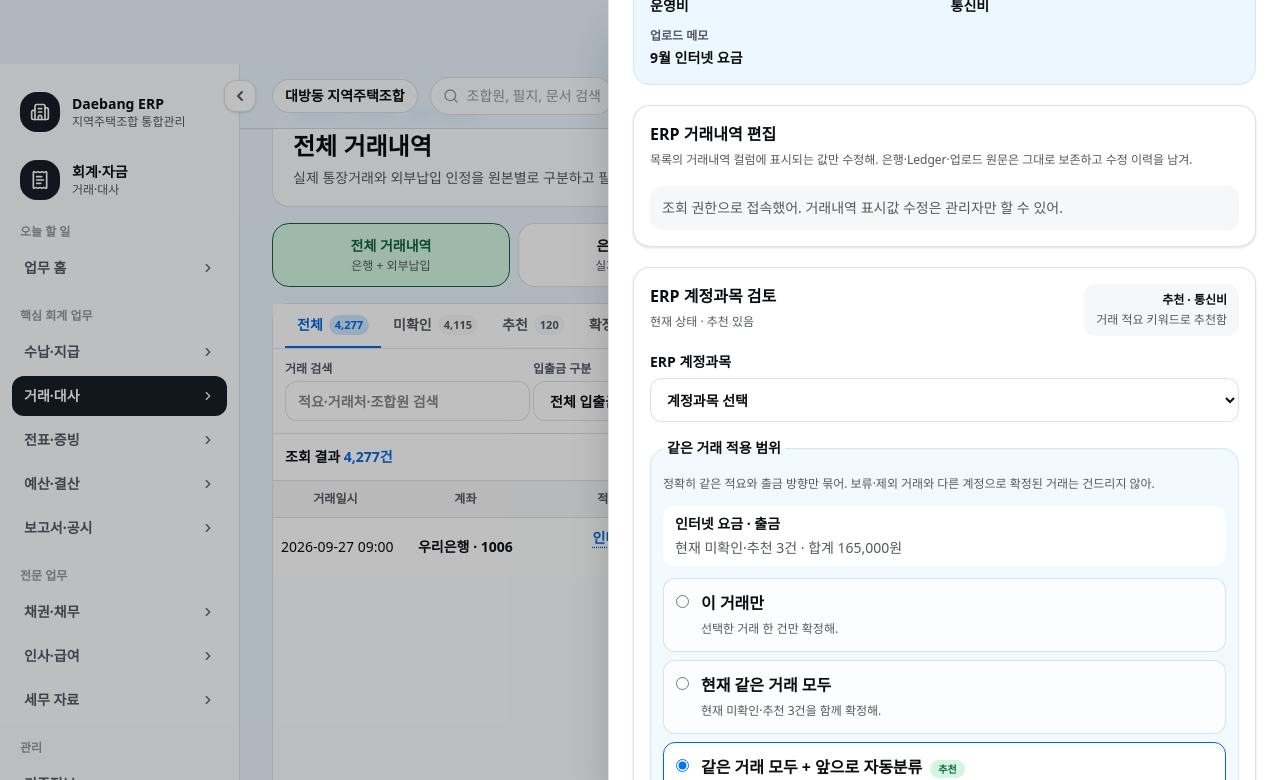
Test: BankTransactionListPage › uses uploaded fields as references and saves the ERP subject with an admin note
(page scrolled)
Expected: the text "현재 미확인·추천 3건 · 합계 165,000원" is shown, top-left (675, 538), bottom-right (902, 557)
Expected: the radio button labelled "같은 거래 모두 + 앞으로 자동분류" is checked, top-left (676, 759), bottom-right (689, 772)
Select "수입 · 조합원 분담금 수입" in the dropdown labelled "ERP 계정과목". click: {"x": 944, "y": 400}
box: top-left (650, 378), bottom-right (1239, 422)
(page scrolled)
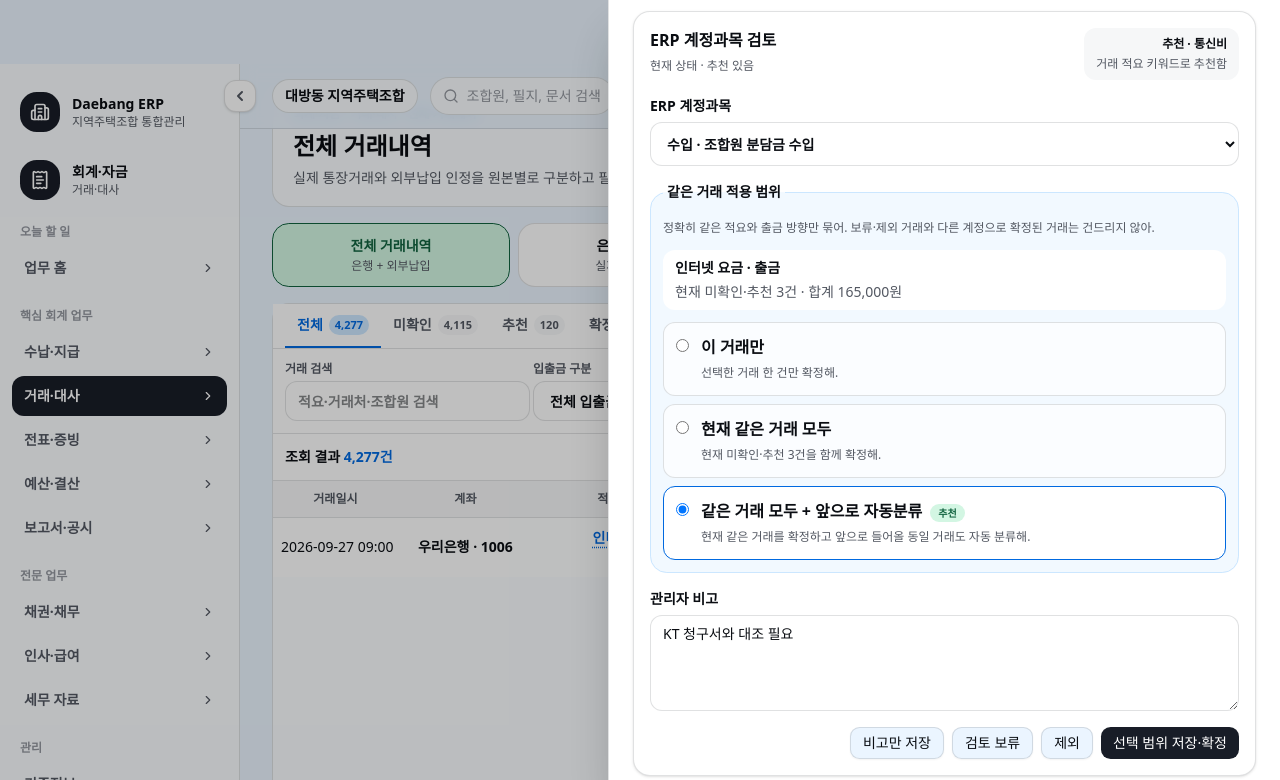
Replace the text in the text box labelled "관리자 비고" with "통신비 청구서 확인 완료". click: {"x": 944, "y": 663}
box: top-left (650, 615), bottom-right (1239, 711)
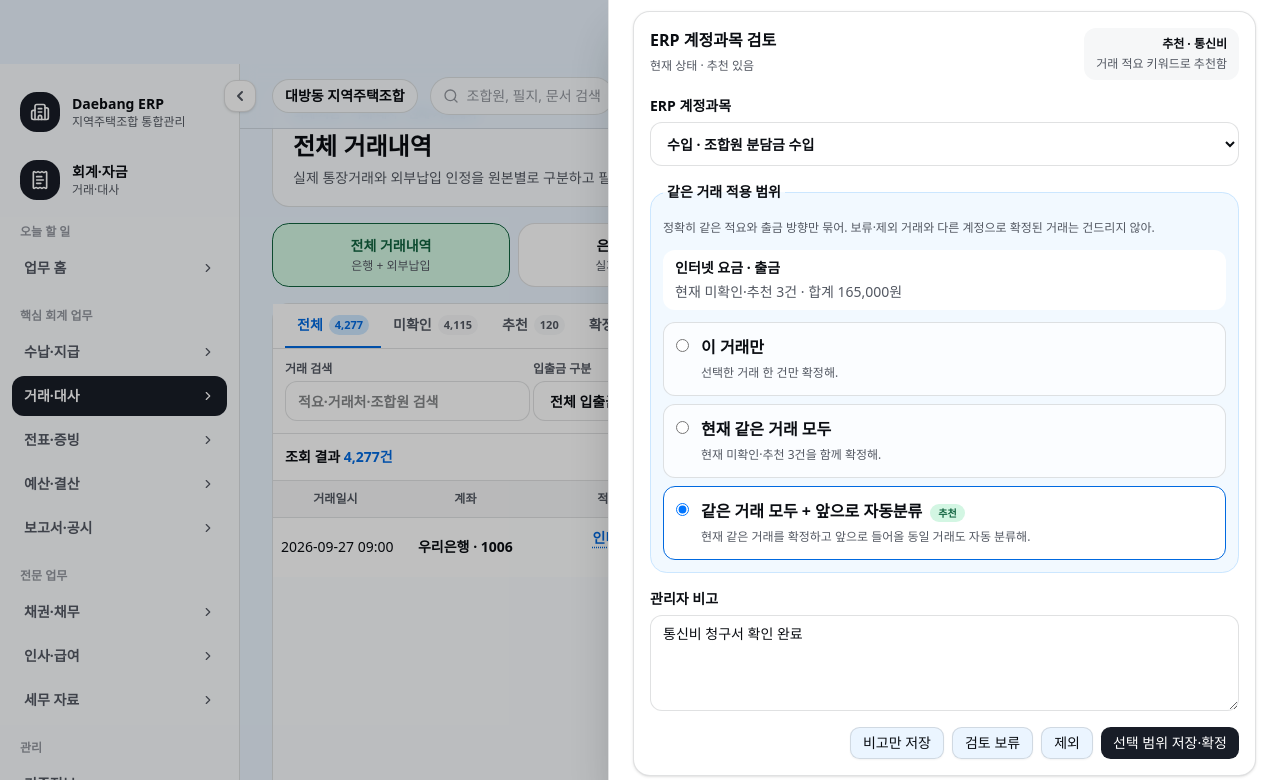
Click the button "선택 범위 저장·확정". click: {"x": 1170, "y": 743}
box: top-left (1101, 727), bottom-right (1239, 759)
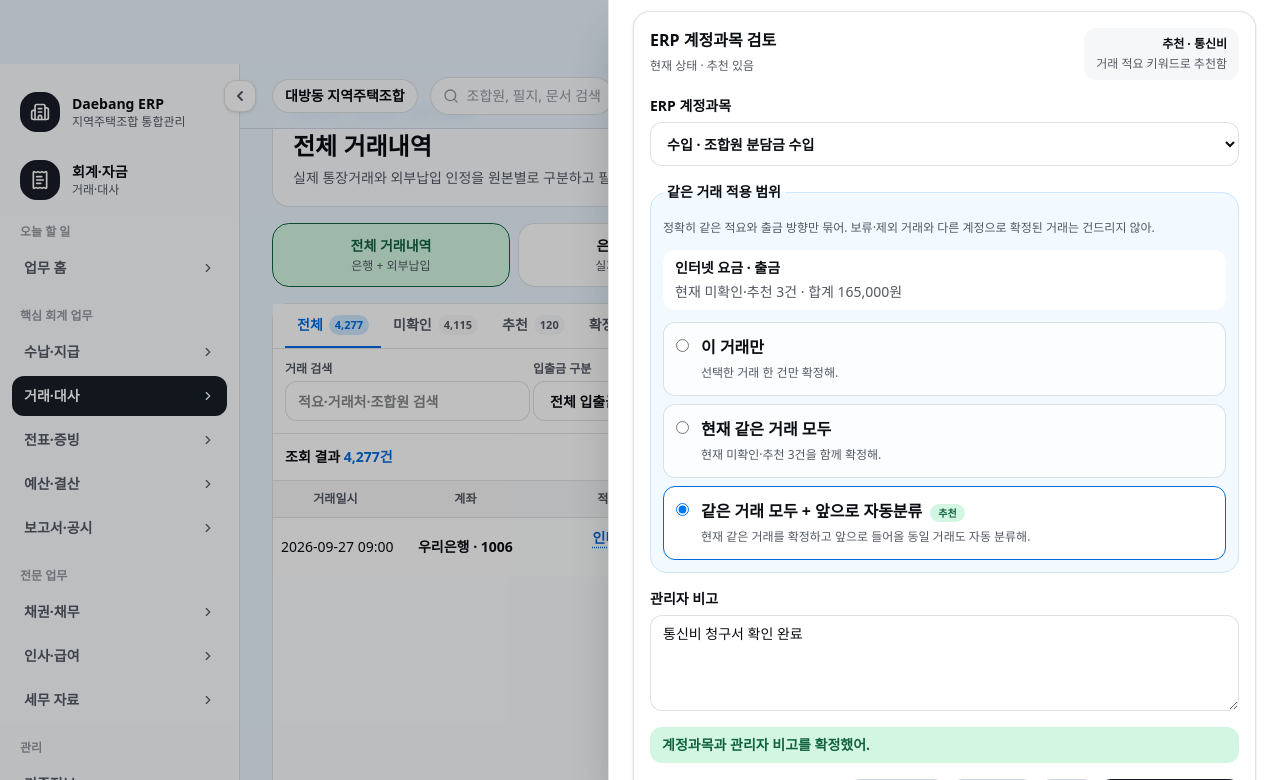
Result: the text "계정과목과 관리자 비고를 확정했어." is shown at top-left (650, 727), bottom-right (1239, 763)
